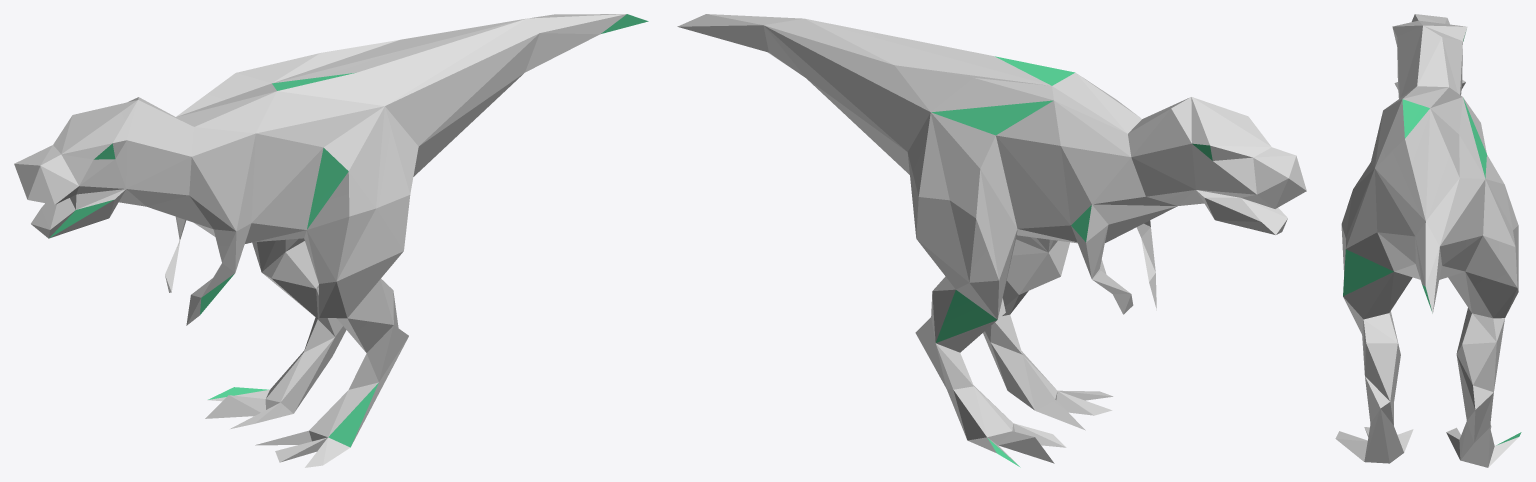
The model's file is floaty08.fbx.
3 views of the same model, side by side, from view 1: azimuth 30°, elevation 25°; view 2: azimuth 150°, elevation 25°; view 3: azimuth 270°, elevation 25° (orthographic). The views are drawn at different scales.
Parts seen in each view (by area): view 1: Cube; view 2: Cube; view 3: Cube.
Part boxes in pixels (x1,y1,x2,y2): Cube: (14,14,648,467); Cube: (677,14,1306,467); Cube: (1335,14,1521,467).
Size of the model in its own units: 875 by 493 by 235.
